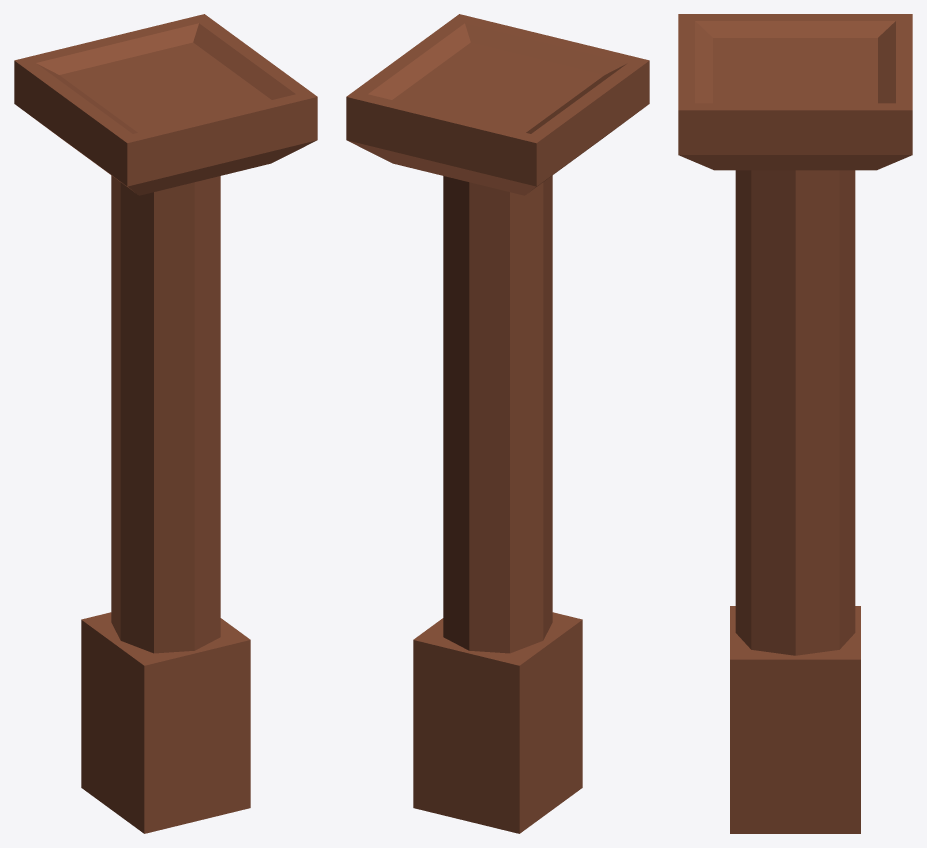
The model's file is Torch.fbx.
3 views of the same model, side by side, from view 1: azimuth 30°, elevation 25°; view 2: azimuth 150°, elevation 25°; view 3: azimuth 270°, elevation 25° (orthographic). The views are drawn at different scales.
Parts seen in each view (by area): view 1: Fackel; view 2: Fackel; view 3: Fackel.
Boxes of the visible parts, x1,y1,x2,y2 form: Fackel: [14, 14, 317, 833]; Fackel: [346, 14, 649, 833]; Fackel: [678, 14, 912, 833].
Bounding box in the file's own units: 237 × 855 × 244.
